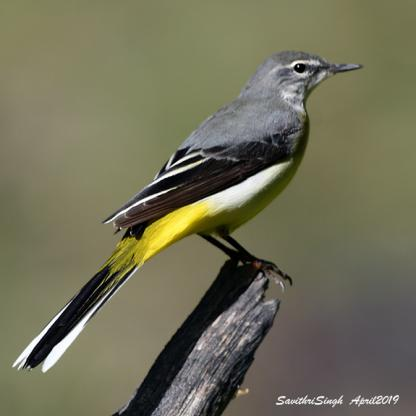Burung: (12, 49, 362, 377)
